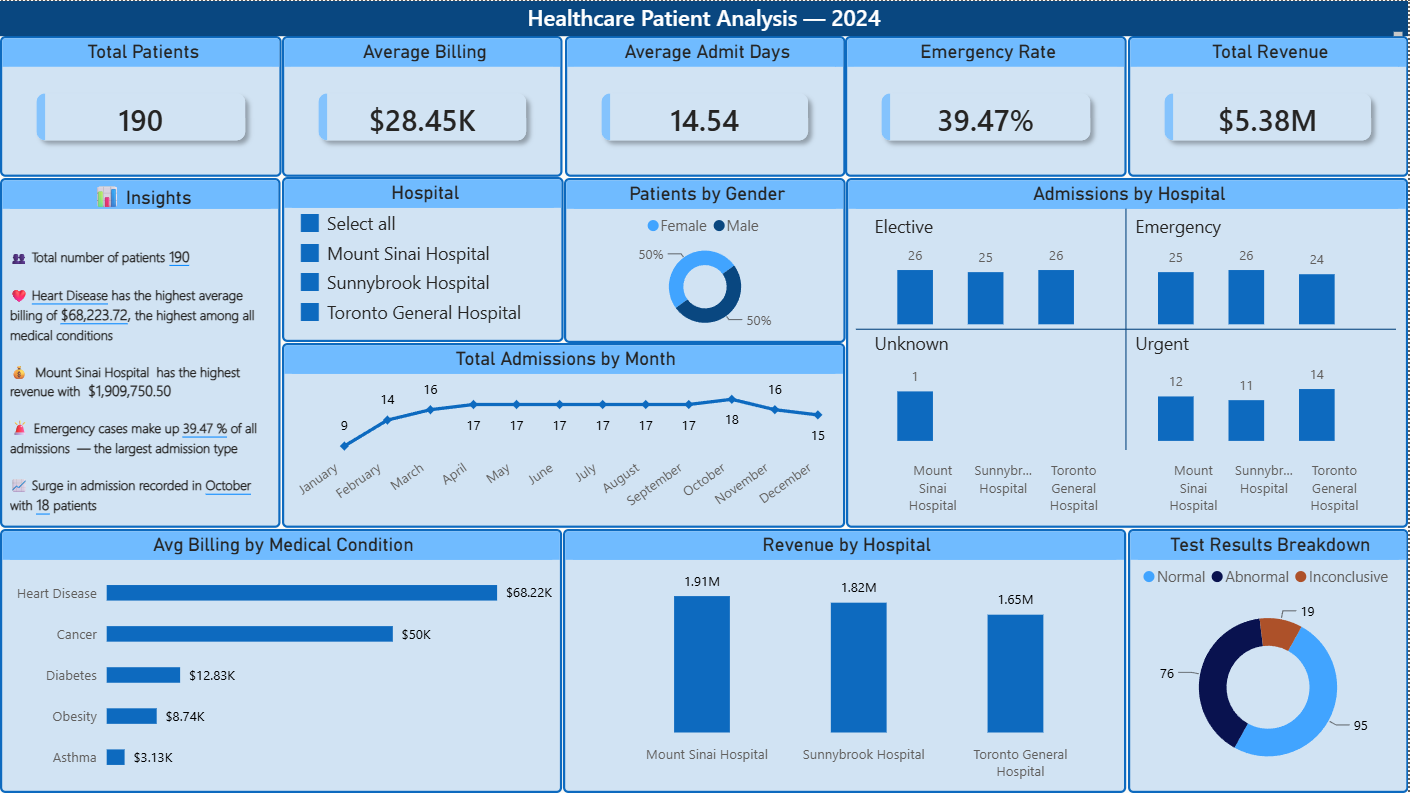

This screenshot's page, from the dashboard's own definition file:
{"tool":"powerbi","page":{"name":"Page 1","canvas":[1280,720],"ordinal":0},"visuals":[{"type":"cardVisual","title":"Total Patients","fields":{"Data":["Healthcare_Messy_Data.Total Patients"]},"box":[0,31.8,256.4,128.2],"z":0},{"type":"cardVisual","title":"Average Billing","fields":{"Data":["Healthcare_Messy_Data.Avg Billing"]},"box":[257.3,31.8,255.5,128.2],"z":1000},{"type":"cardVisual","title":"Average Admit Days","fields":{"Data":["Healthcare_Messy_Data.Avg Stay Days"]},"box":[513.6,31.8,254.5,128.2],"z":2000},{"type":"cardVisual","title":"Emergency Rate","fields":{"Data":["Healthcare_Messy_Data.Emergency Rate"]},"box":[768.2,31.8,256.4,128.2],"z":3000},{"type":"cardVisual","title":"Total Revenue","fields":{"Data":["Healthcare_Messy_Data.Total Revenue"]},"box":[1025.5,31.8,254.5,128.2],"z":4000},{"type":"slicer","title":"Hospital","fields":{"Values":["Healthcare_Messy_Data.Hospital"]},"box":[256.4,160,256.4,150],"z":5000},{"type":"clusteredBarChart","title":"Avg Billing by Medical Condition","fields":{"Category":["Healthcare_Messy_Data.Medical_Condition"],"Y":["Healthcare_Messy_Data.Avg Billing"]},"box":[0,480,510.9,240],"z":6000},{"type":"donutChart","title":"Patients by Gender","fields":{"Category":["Healthcare_Messy_Data.Gender"],"Y":["Healthcare_Messy_Data.Total Patients"]},"box":[512.7,160.9,256.4,150],"z":7000},{"type":"columnChart","title":"Admissions by Hospital","fields":{"Category":["Healthcare_Messy_Data.Hospital"],"Y":["CountNonNull(Healthcare_Messy_Data.Patient_ID)"],"Rows":["Healthcare_Messy_Data.Admission_Type"]},"box":[769.1,160.9,510.9,318.2],"z":8000},{"type":"lineChart","title":"Total Admissions by Month","fields":{"Category":["Healthcare_Messy_Data.Date_of_Admission.Variation.Date Hierarchy.Month"],"Y":["Healthcare_Messy_Data.Total Patients"]},"box":[256.4,310.9,511.8,168.2],"z":9000},{"type":"columnChart","title":"Revenue by Hospital","fields":{"Category":["Healthcare_Messy_Data.Hospital"],"Y":["Healthcare_Messy_Data.Total Revenue"]},"box":[511.8,480,511.8,240],"z":10000},{"type":"textbox","title":"📊 Insights","box":[0,160.9,254.5,318.2],"z":11000},{"type":"donutChart","title":"Test Results Breakdown","fields":{"Category":["Healthcare_Messy_Data.Test_Results"],"Y":["Healthcare_Messy_Data.Total Patients"]},"box":[1025.5,480,254.5,240],"z":12000},{"type":"textbox","title":"Healthcare Patient Analysis — 2024","box":[0,0,1280,31.8],"z":13000}]}

Visuals, with their boxes in screenshot pixels (x1, y1, x2, y2), scaled from the page's 1280x720 canvas onto the 1410x793 screenshot:
"Total Patients" cardVisual: Rect(0, 35, 282, 176)
"Average Billing" cardVisual: Rect(283, 35, 565, 176)
"Average Admit Days" cardVisual: Rect(566, 35, 846, 176)
"Emergency Rate" cardVisual: Rect(846, 35, 1129, 176)
"Total Revenue" cardVisual: Rect(1130, 35, 1409, 176)
"Hospital" slicer: Rect(282, 176, 565, 341)
"Avg Billing by Medical Condition" clusteredBarChart: Rect(0, 529, 563, 792)
"Patients by Gender" donutChart: Rect(565, 177, 847, 342)
"Admissions by Hospital" columnChart: Rect(847, 177, 1409, 528)
"Total Admissions by Month" lineChart: Rect(282, 342, 846, 528)
"Revenue by Hospital" columnChart: Rect(564, 529, 1128, 792)
"📊 Insights" textbox: Rect(0, 177, 280, 528)
"Test Results Breakdown" donutChart: Rect(1130, 529, 1409, 792)
"Healthcare Patient Analysis — 2024" textbox: Rect(0, 0, 1409, 35)
